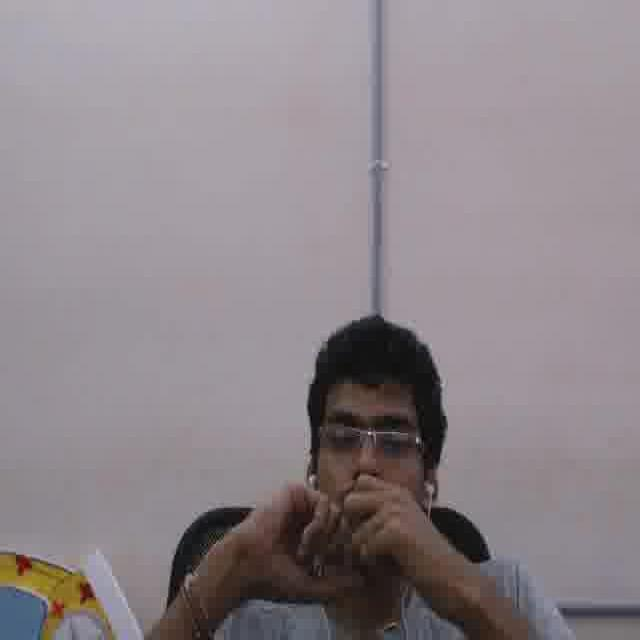Boredom: (315, 374, 423, 546)
